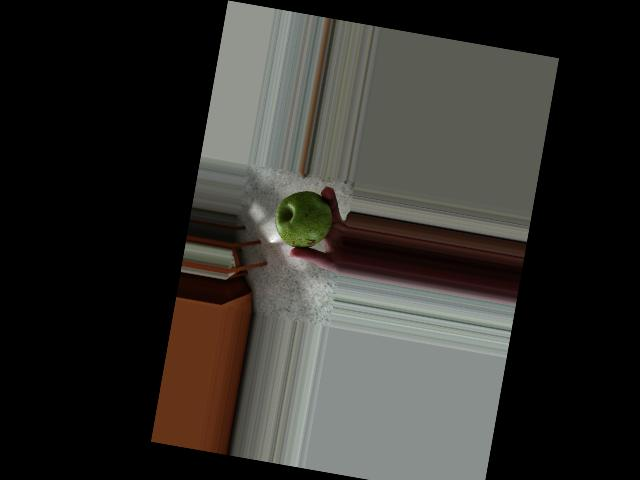apple: (269, 183, 338, 253)
